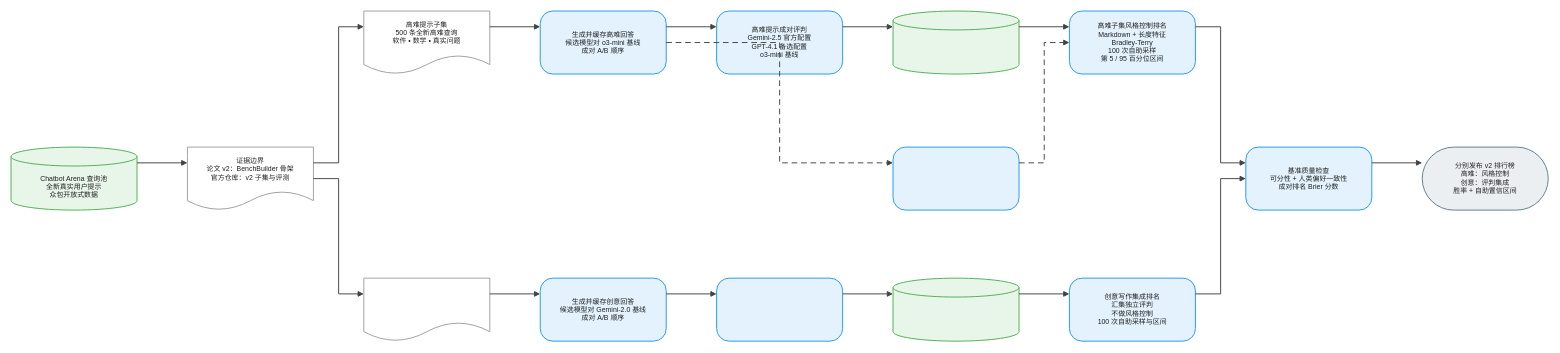
Image size: 1560x353. Some labels were removed from this diagram. The centre of each missing label's shape, as x and y in pixels:
仅高难回答的风格元数据 Token 长度 + Markdown 密度 标题 • 粗体 • 列表: point 955,178
创意写作子集 250 条创意 Arena 查询 单独评测类别: point 426,309
创意写作集成评判 GPT-4.1 + Gemini-2.5 独立推理 Gemini-2.0 基线: point 779,309
汇集创意写作评判 GPT-4.1 + Gemini-2.5 记录 按提示 / 模型 / 评判缓存: point 955,309
解析高难评判 A>>B • A>B • 平局 B>A • B>>A 按提示 / 模型 / 评判缓存: point 955,42
